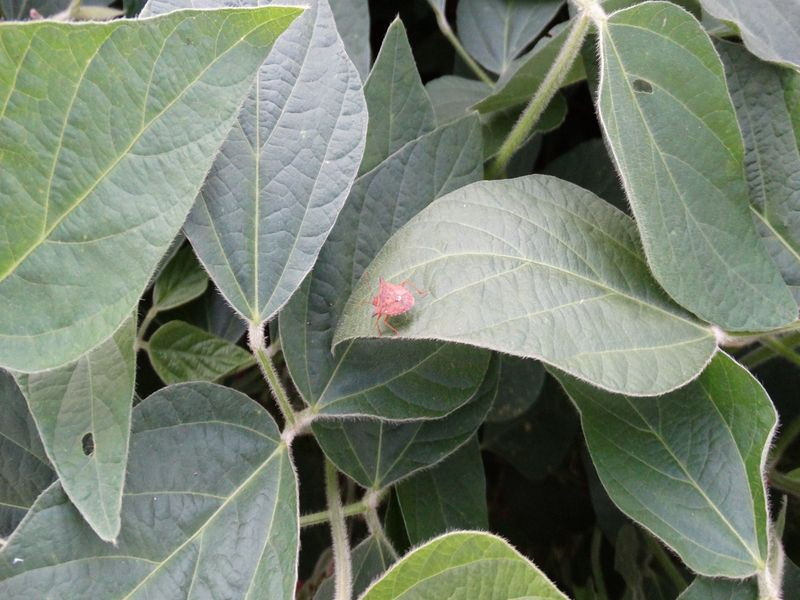Euschistus_heros_adulto: (341, 265, 439, 348)
